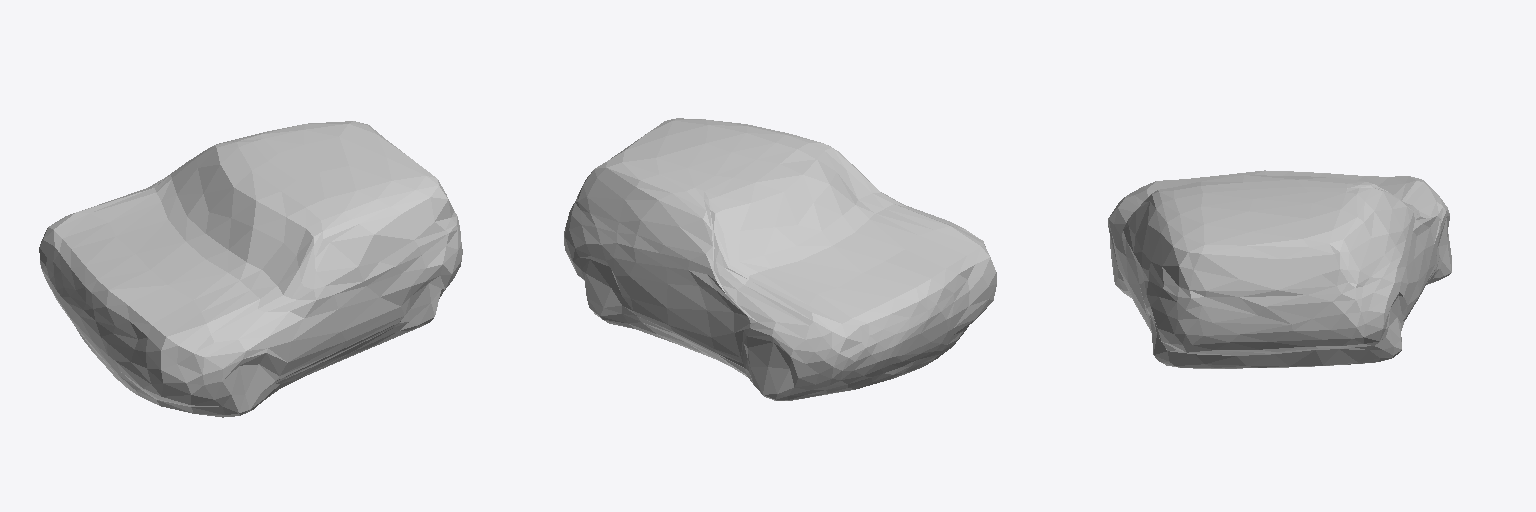
The model's file is video3_241.obj.
3 views of the same model, side by side, from view 1: azimuth 30°, elevation 25°; view 2: azimuth 150°, elevation 25°; view 3: azimuth 270°, elevation 25° (orthographic).
Size of the model in its own units: 1 by 0.4861 by 0.8947.